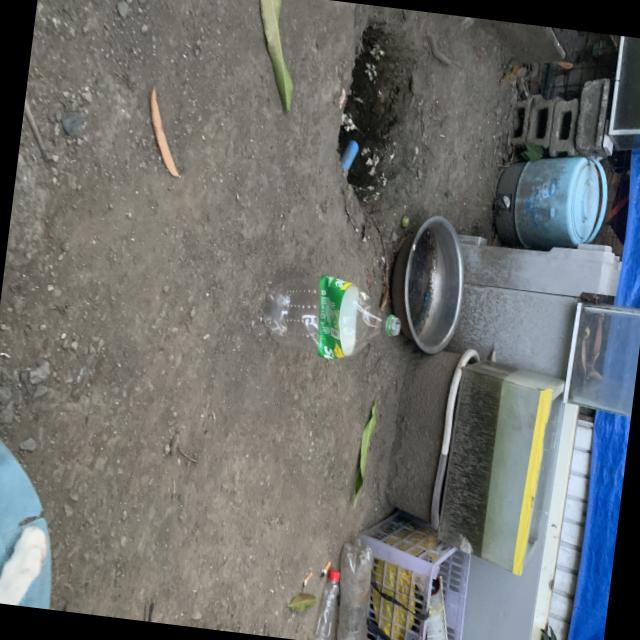Bottle: (263, 274, 400, 358)
